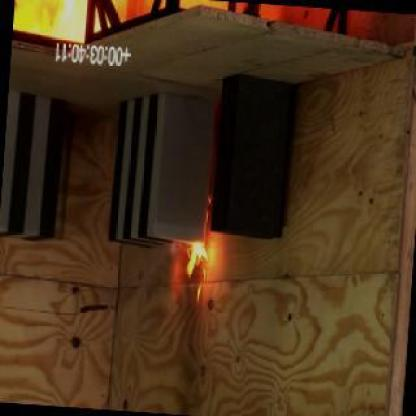Fire: (14, 0, 330, 53), (178, 241, 212, 308)
